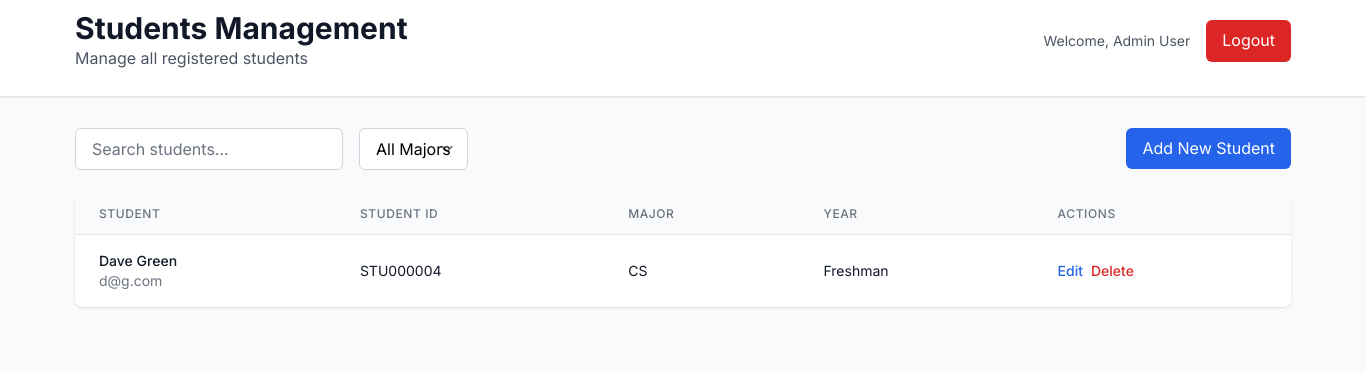
DELETE: removes student when delete is confirmed
Click the button "Delete" at (1112, 271), box x1=1091 y1=261 x2=1134 y2=281
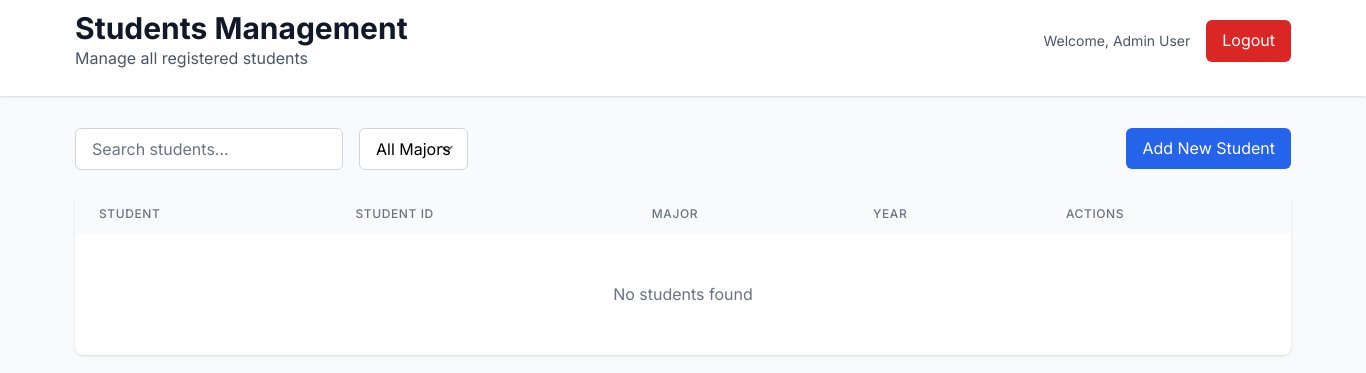
Expected: the text "Dave Green" is gone
